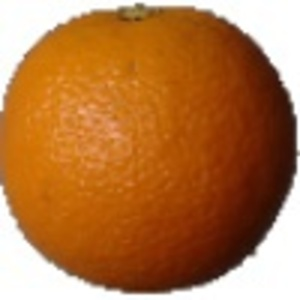laranja: (4, 4, 295, 297)
